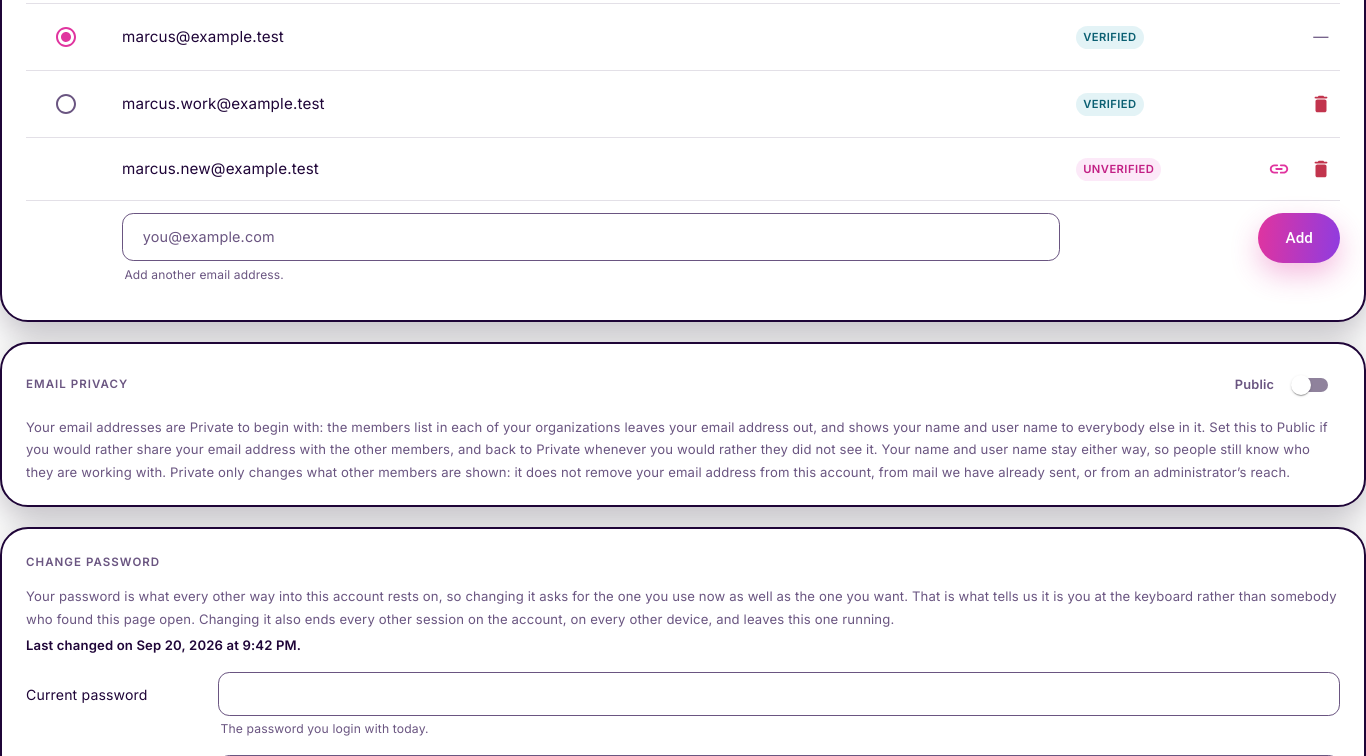
Test case: the privacy switch › says which way it ended up, from the answer rather than the click
(page scrolled)
Click the switch named "Keep my email addresses private": (1254, 384) [1235, 375, 1328, 395]
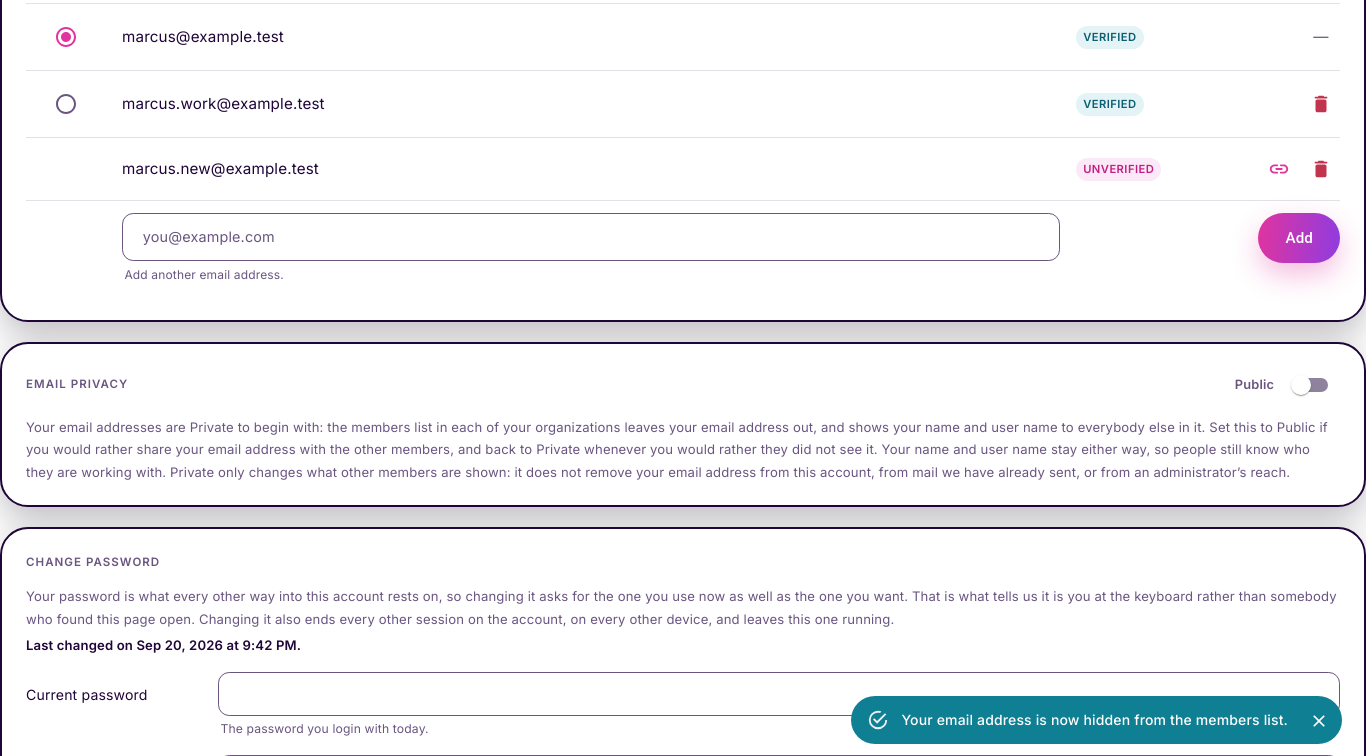
Check: the text "Your email address is now hidden from the members list." is shown, box [901, 711, 1288, 728]
